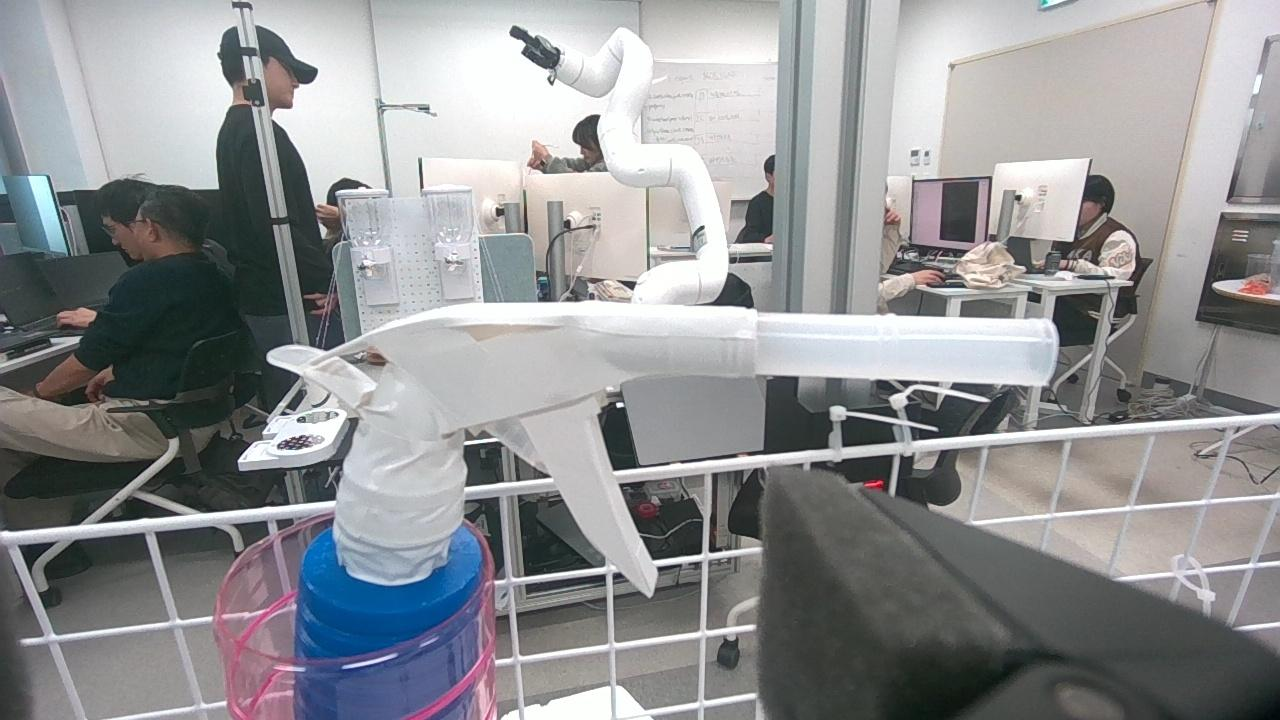Nozzle: (262, 296, 767, 720)
